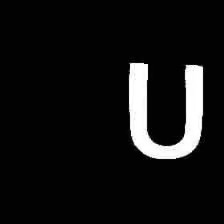LTR_U: (119, 49, 213, 166)
